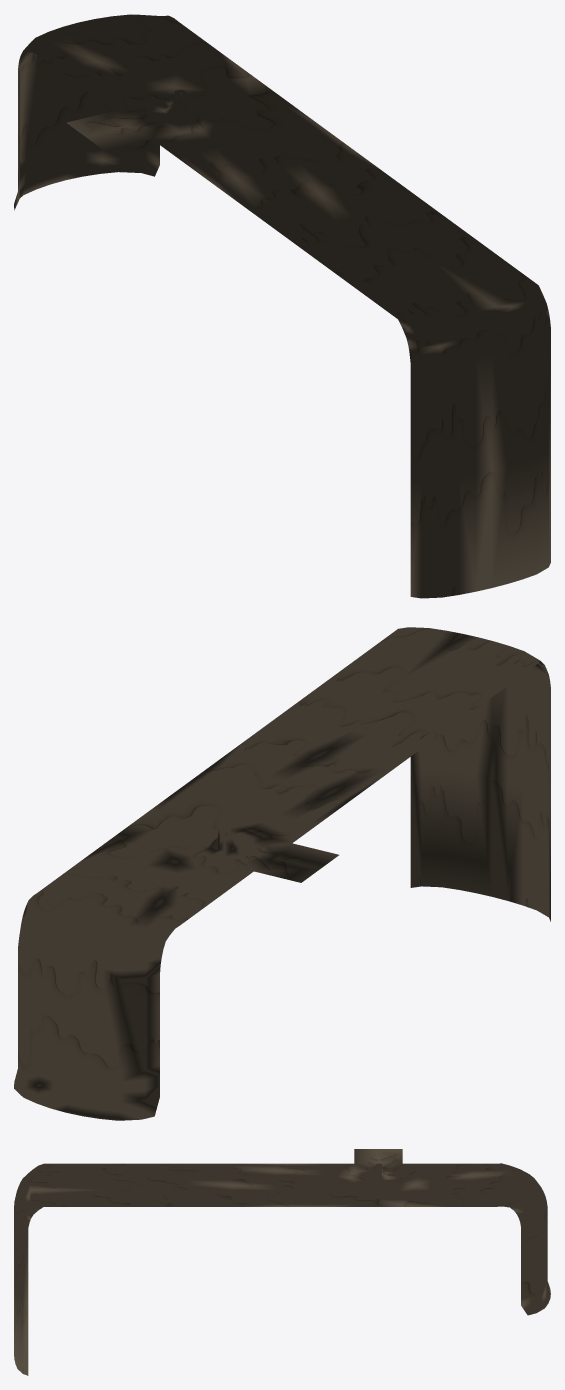
The model's file is stg220_MotChocoB_09.obj.
The picture shows the model from 3 angles, top to bottom: view 1: azimuth 30°, elevation 25°; view 2: azimuth 150°, elevation 25°; view 3: azimuth 270°, elevation 25°; orthographic projection. The views are drawn at different scales.
Visible parts, largest first — view 1: polygon0; view 2: polygon0; view 3: polygon0.
Part boxes in pixels (x1,y1,x2,y2): polygon0: (14, 14, 550, 598); polygon0: (14, 627, 550, 1120); polygon0: (14, 1149, 550, 1375).
Size of the model in its own units: 450 by 663 by 1769.
1 material, 1 textured.
